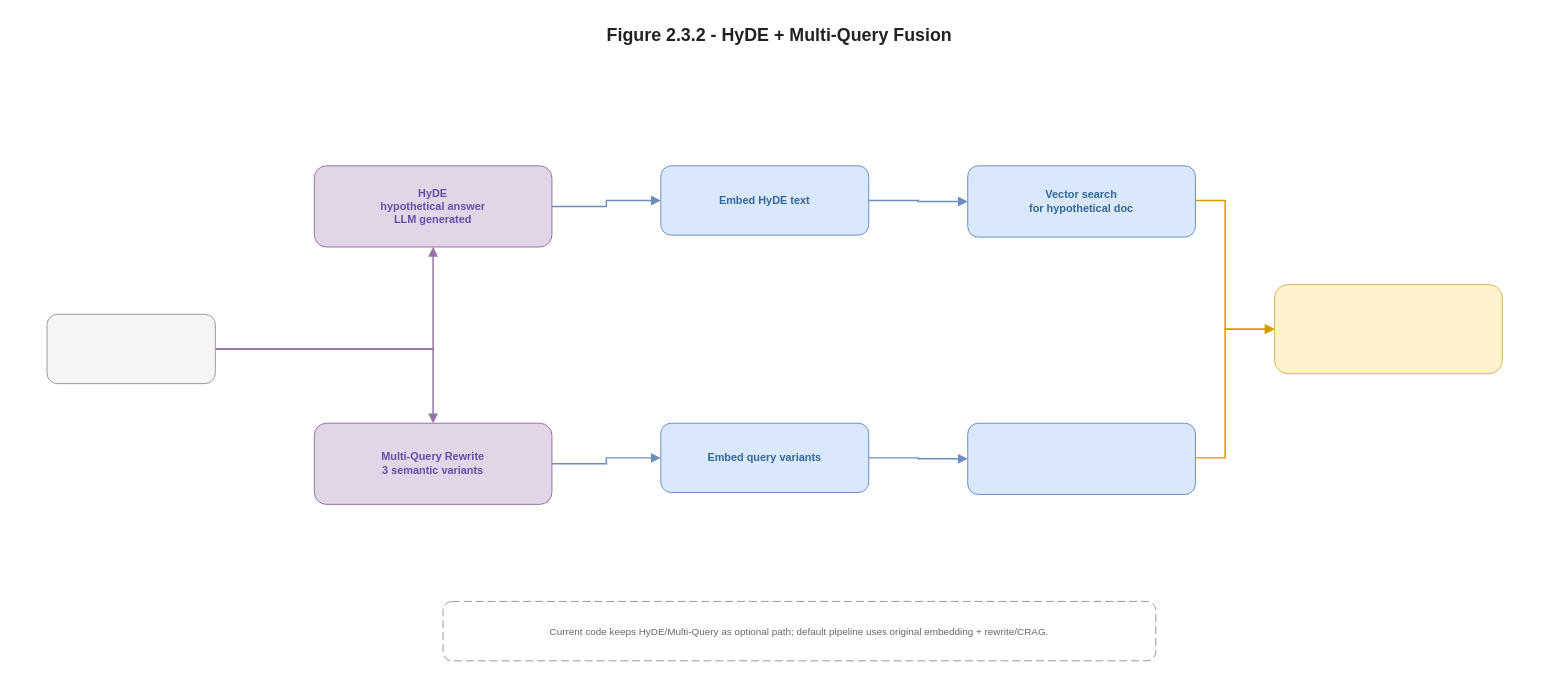
This 1558x678 diagram has some shape labels left out. Each missing label, with the box of its shape:
Parallel searches for query variants: (967, 422, 1195, 495)
RRF Fusion merge dedupe candidates: (1274, 284, 1502, 374)
User Query: (46, 313, 215, 384)
